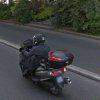Motorcycle: (10, 32, 78, 96)
